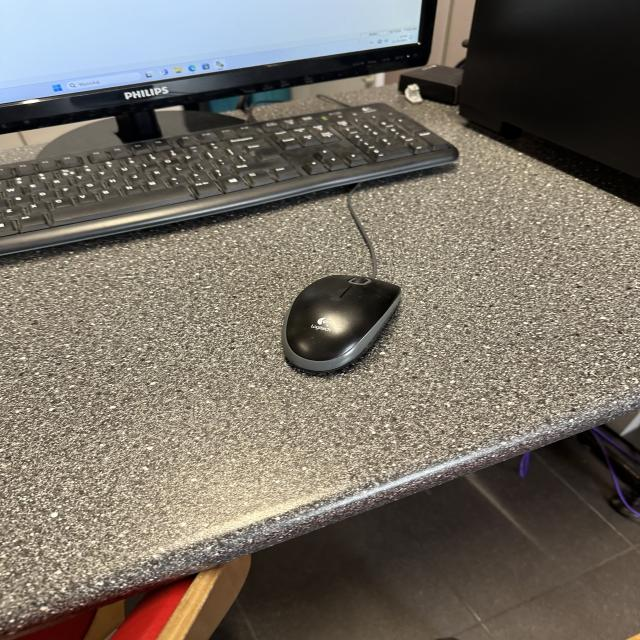mysz: (275, 270, 404, 380)
